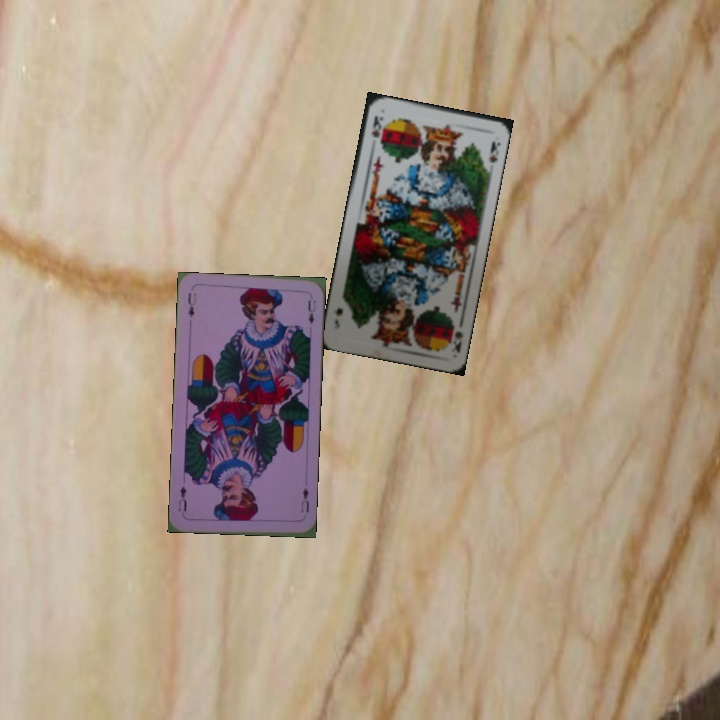EU: (297, 484, 312, 515), (184, 288, 198, 320)
SK: (368, 112, 385, 140), (451, 327, 465, 356)
